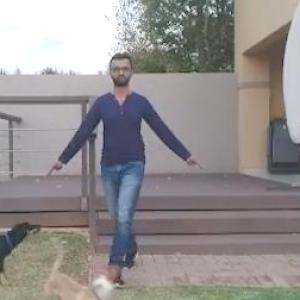land: (77, 68, 175, 250)
